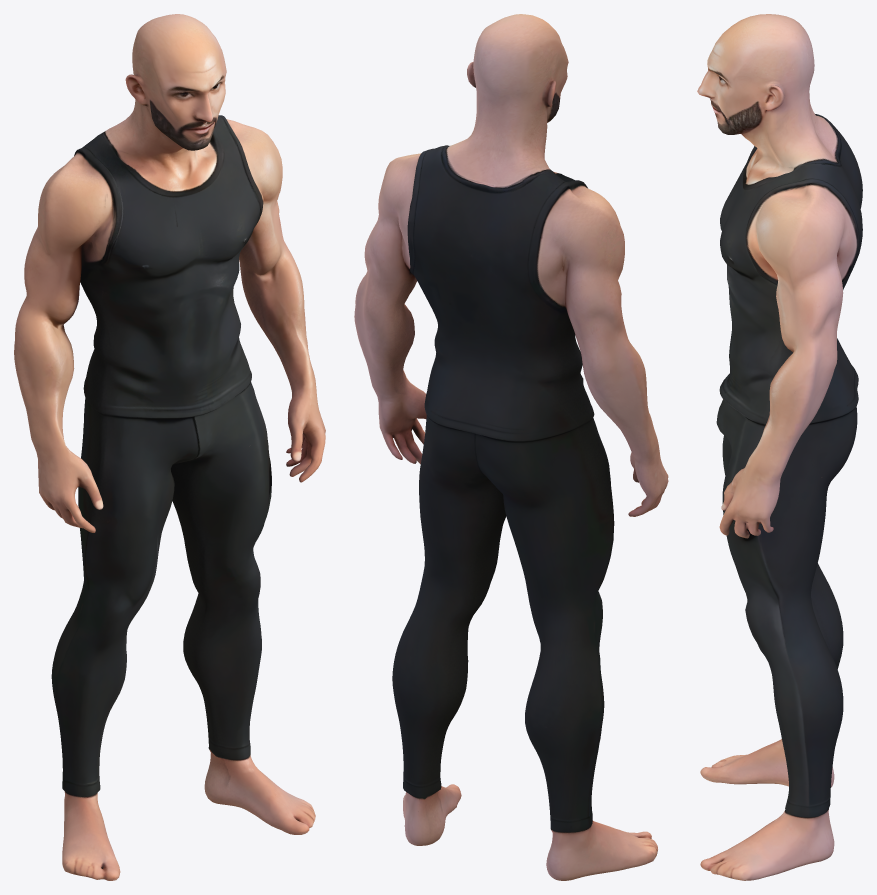
File: base_basic_shaded.glb
3 views of the same model, side by side, from view 1: azimuth 30°, elevation 25°; view 2: azimuth 150°, elevation 25°; view 3: azimuth 270°, elevation 25° (orthographic).
Visible parts, largest first — view 1: model; view 2: model; view 3: model.
Boxes of the visible parts, x1,y1,x2,y2 form: model: [14, 14, 325, 880]; model: [354, 14, 668, 880]; model: [697, 14, 862, 880].
Size of the model in its own units: 0.6759 by 1.85 by 0.3441.
Materials: 1 (1 with a texture image).
